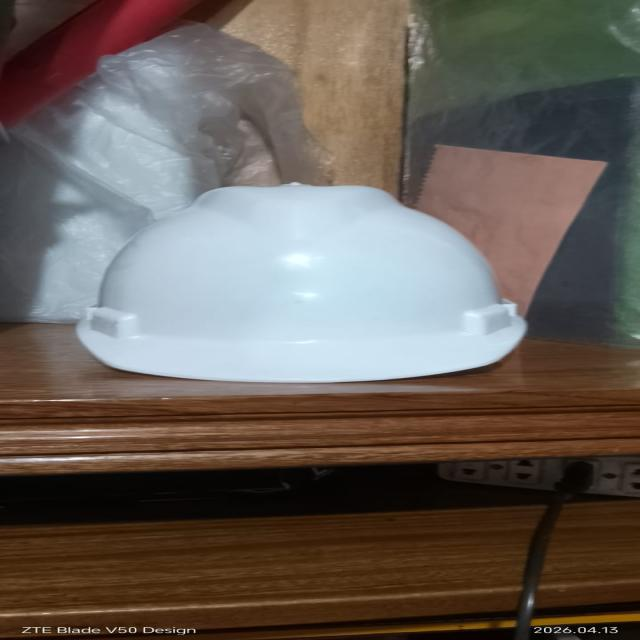casco: (48, 170, 552, 388)
